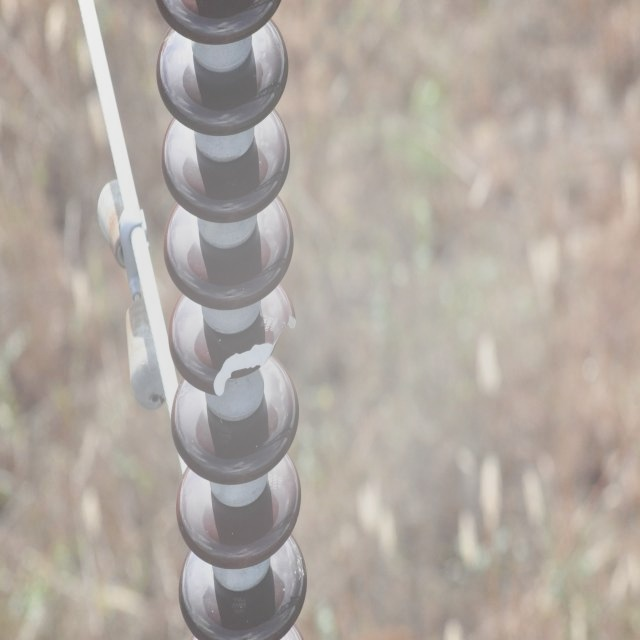broken: (213, 307, 298, 400)
insulator: (154, 0, 308, 638)
